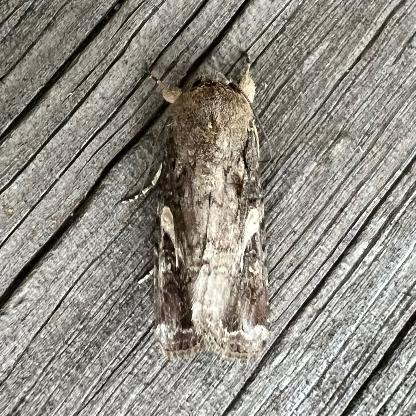Fall Armyworm Moth: (108, 46, 278, 368)
